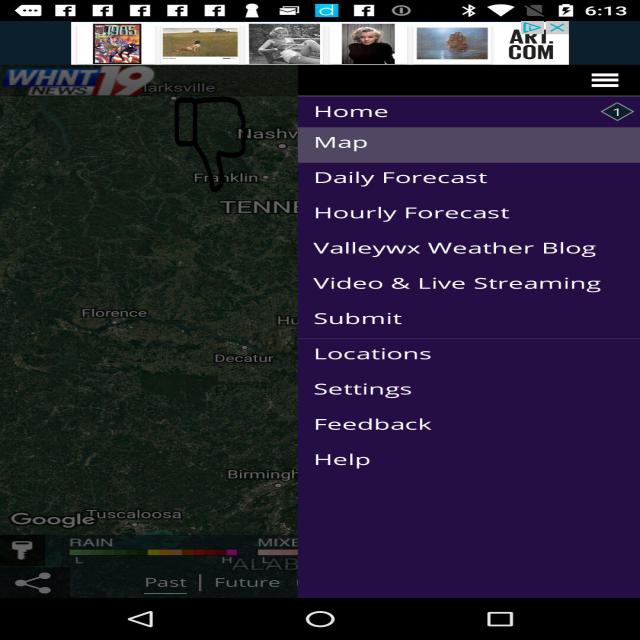obstruction: (174, 97, 248, 192)
